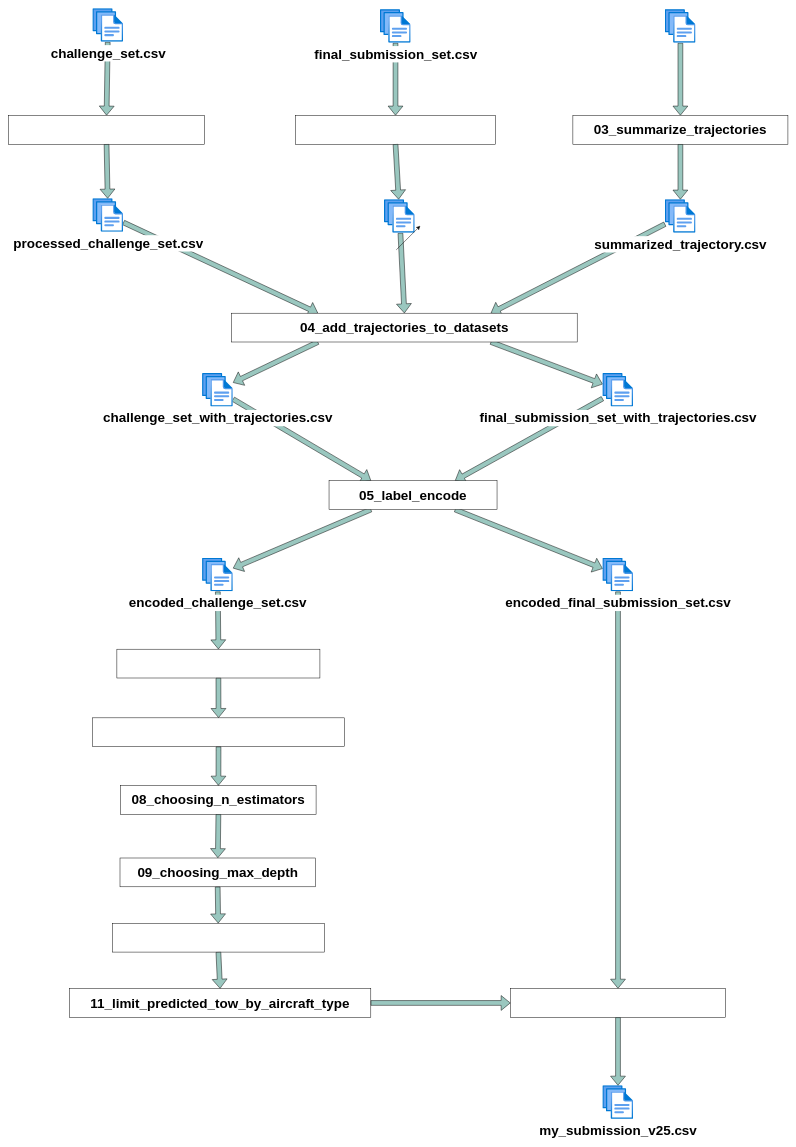
This 796x1147 diagram has some shape labels left out. The box of each missing label's shape, as (x1, y1, x2, y2) in pixels:
01_process_challenge_set: (8, 115, 205, 144)
02_process_submission_set: (295, 115, 496, 144)
06_grid_search_xgboost: (116, 649, 320, 678)
07_select_most_important_features: (92, 717, 344, 747)
10_final_grid_search_xgboost: (112, 923, 324, 952)
12_RUN_OPTIMAL_XGBOOST: (510, 988, 726, 1017)
processed_final_submission_set.csv: (384, 199, 415, 233)
Trajecotries files: (665, 9, 696, 43)
